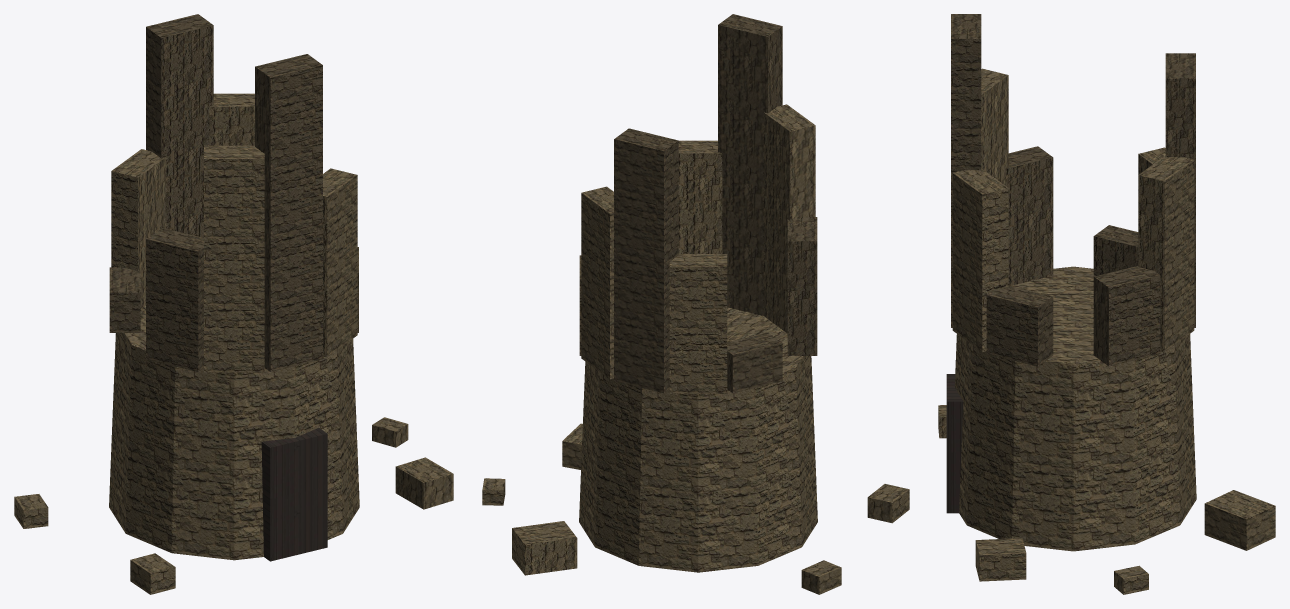
Rendered from tower_ruin_01.glb.
3 views of the same model, side by side, from view 1: azimuth 30°, elevation 25°; view 2: azimuth 150°, elevation 25°; view 3: azimuth 270°, elevation 25° (orthographic). The views are drawn at different scales.
Parts seen in each view (by area): view 1: tower_ruin_01; view 2: tower_ruin_01; view 3: tower_ruin_01.
Boxes of the visible parts, x1=… form: tower_ruin_01: x1=14, y1=14, x2=453, y2=594; tower_ruin_01: x1=482, y1=14, x2=909, y2=594; tower_ruin_01: x1=938, y1=14, x2=1275, y2=594.
Size of the model in its own units: 5.95 by 7.2 by 4.66.
Materials: 3 (3 with a texture image).
